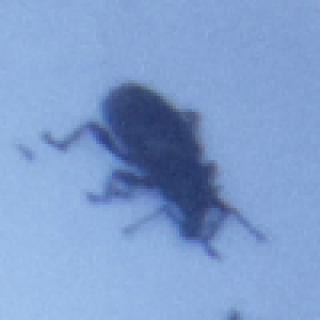bvw: (39, 80, 270, 265)
